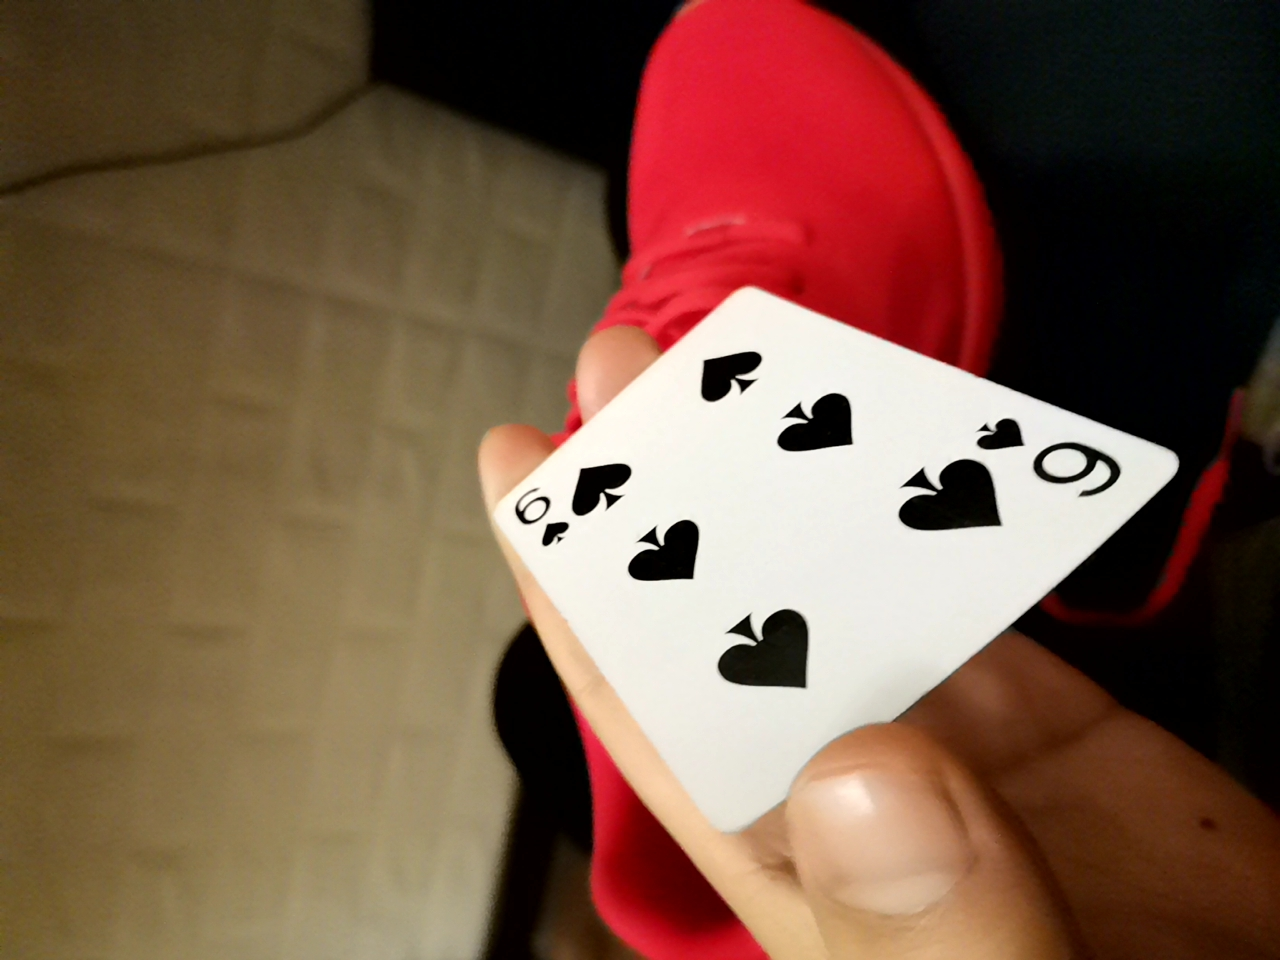ht 6: (504, 263, 1209, 859)
